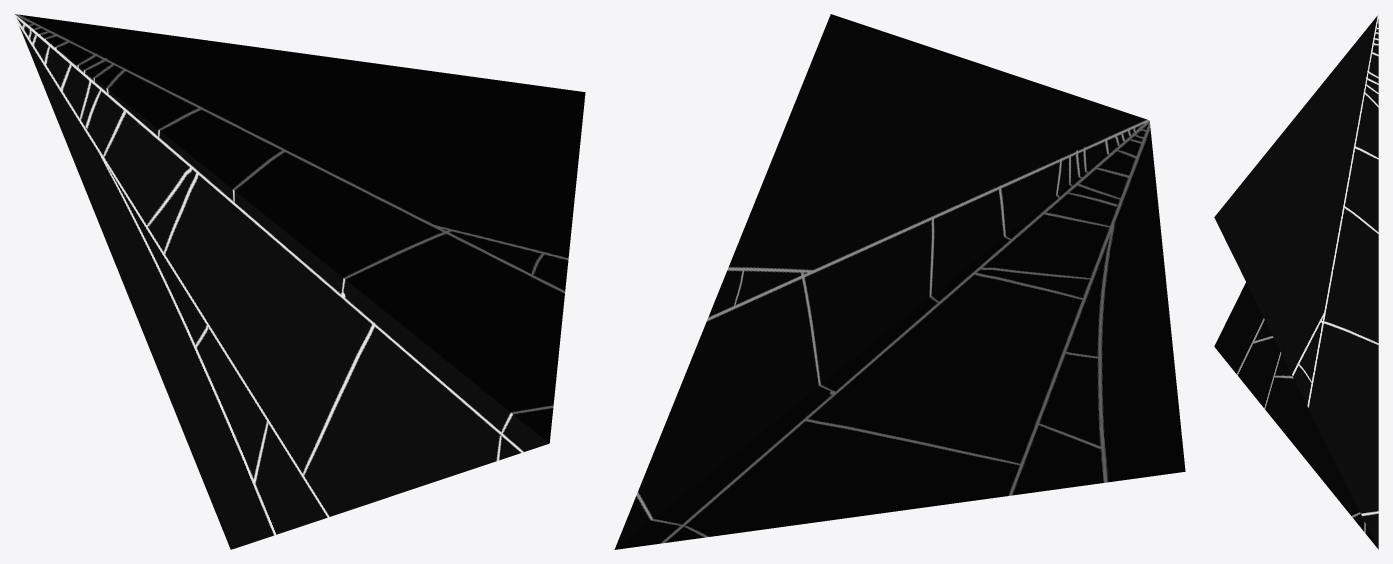
Rendered from SM_WebTri_Low.fbx.
3 views of the same model, side by side, from view 1: azimuth 30°, elevation 25°; view 2: azimuth 150°, elevation 25°; view 3: azimuth 270°, elevation 25° (orthographic). The views are drawn at different scales.
Parts seen in each view (by area): view 1: WebTri; view 2: WebTri; view 3: WebTri.
Part boxes in pixels (x1,y1,x2,y2): WebTri: [14, 14, 585, 549]; WebTri: [614, 14, 1185, 549]; WebTri: [1214, 14, 1378, 549].
Bounding box in the file's own units: 171 × 171 × 69.79.
Materials: 1 (1 with a texture image).
